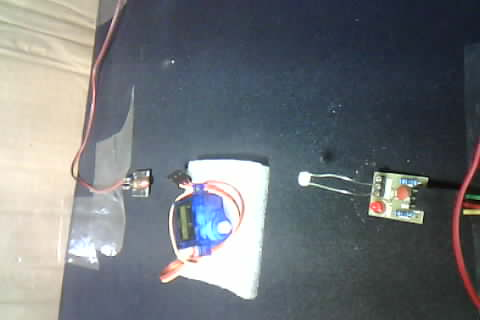motor: (152, 152, 258, 292)
